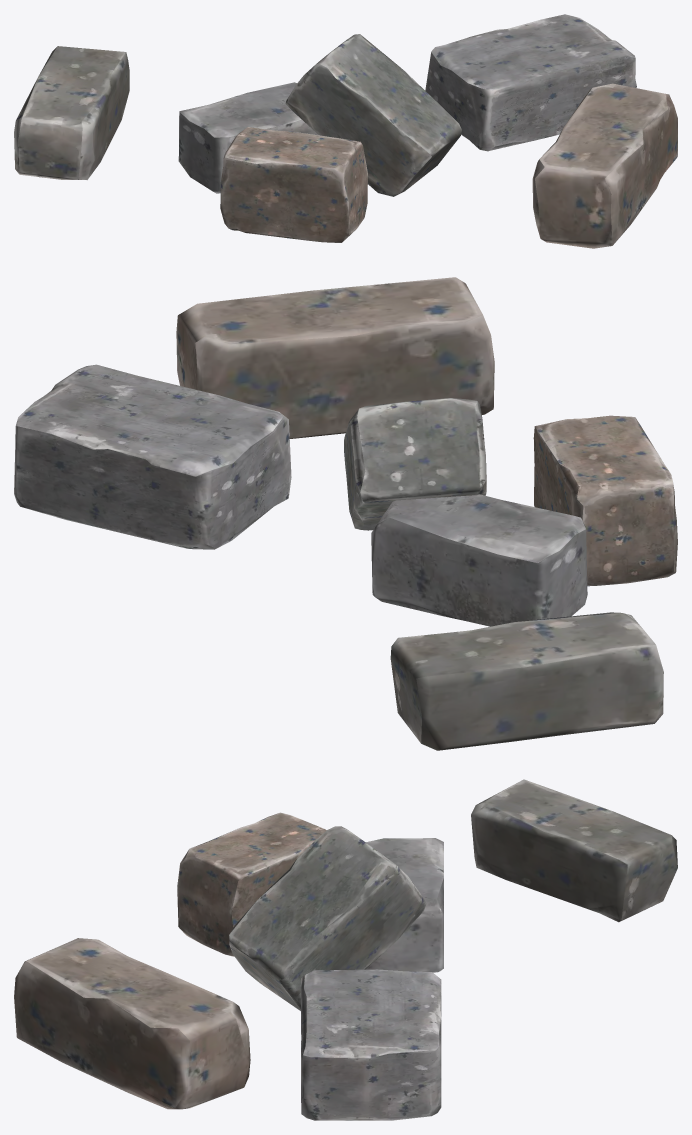
The picture shows the model from 3 angles, top to bottom: view 1: azimuth 30°, elevation 25°; view 2: azimuth 150°, elevation 25°; view 3: azimuth 270°, elevation 25°; orthographic projection. The views are drawn at different scales.
Parts seen in each view (by area): view 1: SM_House_Bricks_01_LOD0; view 2: SM_House_Bricks_01_LOD0; view 3: SM_House_Bricks_01_LOD0.
Boxes of the visible parts, x1,y1,x2,y2 form: SM_House_Bricks_01_LOD0: (14, 14, 677, 248); SM_House_Bricks_01_LOD0: (14, 277, 677, 750); SM_House_Bricks_01_LOD0: (14, 779, 677, 1120).
Size of the model in its own units: 1.11 by 0.252 by 1.08.
1 material, 1 textured.
